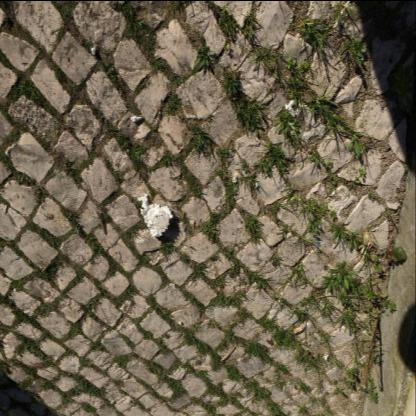Styrofoam piece: (138, 192, 174, 238), (130, 115, 142, 121), (286, 99, 294, 108), (232, 177, 238, 182), (92, 46, 96, 53)
